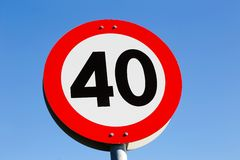Speed_limit_40km: (42, 18, 184, 147)
